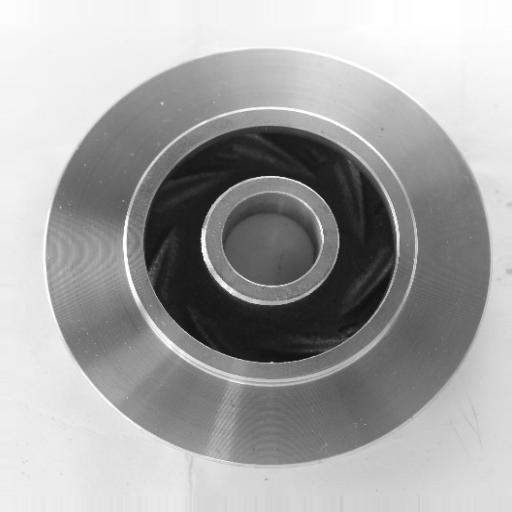polished_casting: (43, 46, 496, 472)
